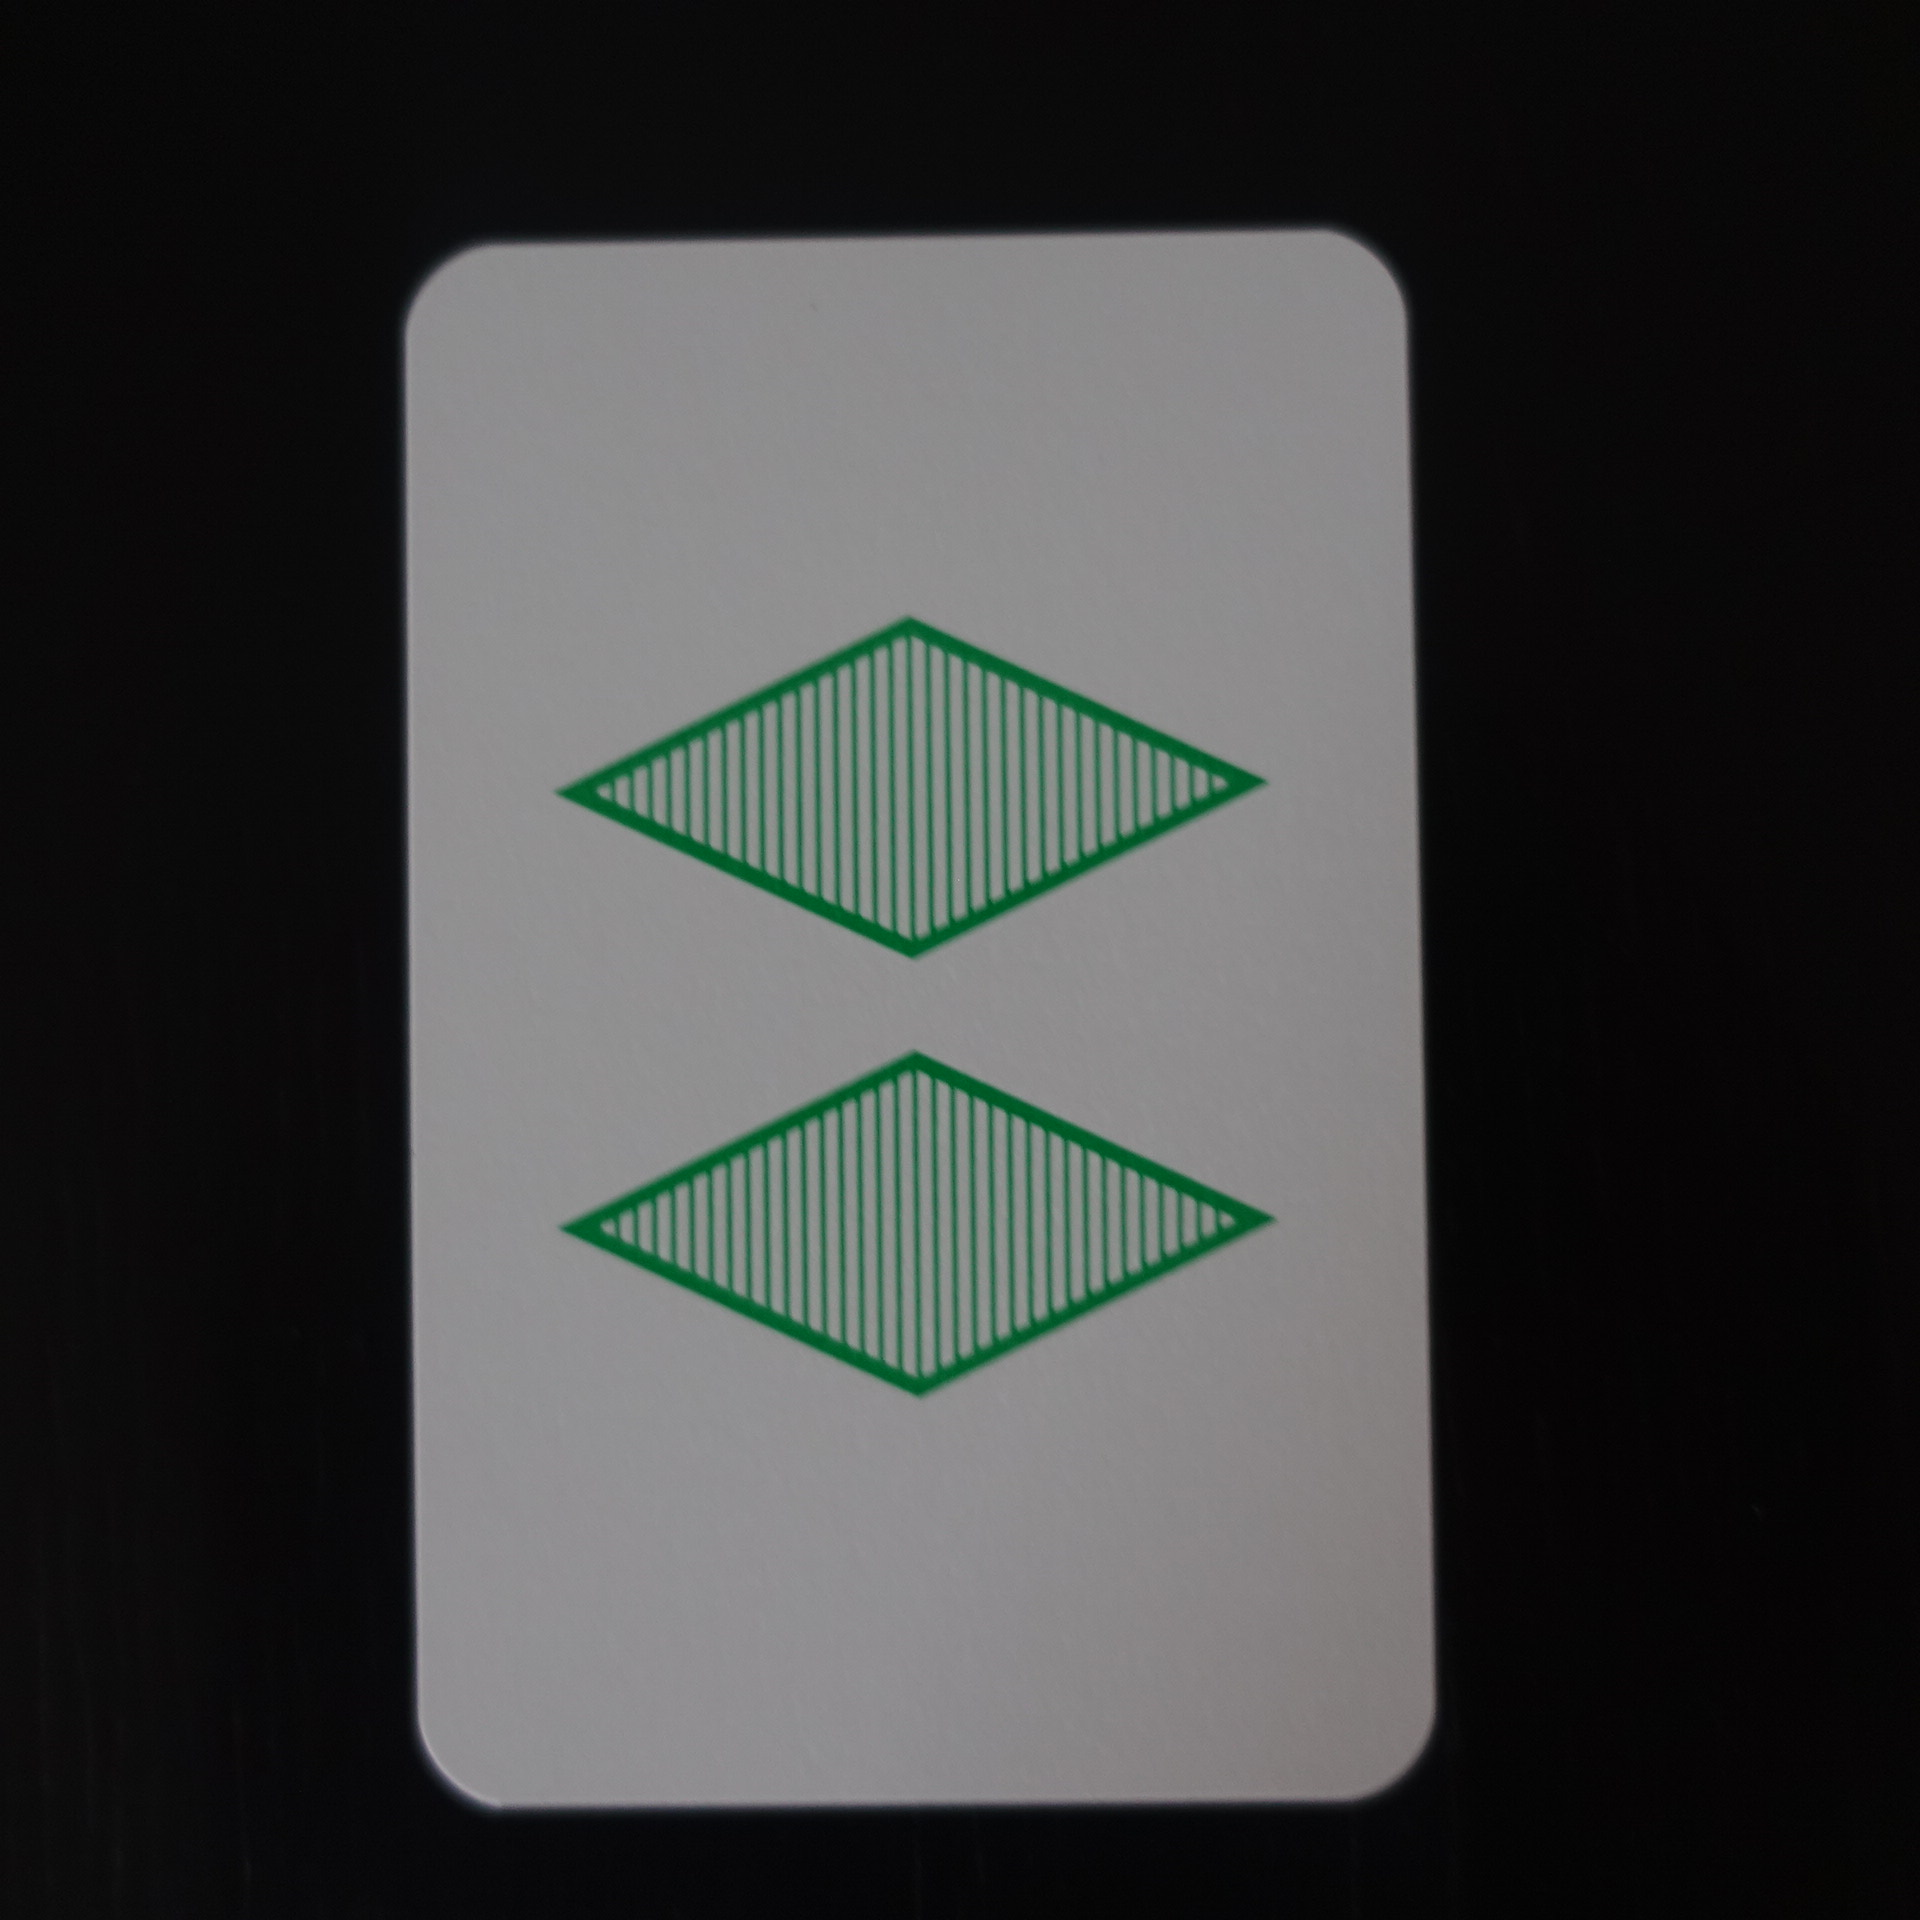c-2-h-d-g: (362, 215, 1465, 1830)
